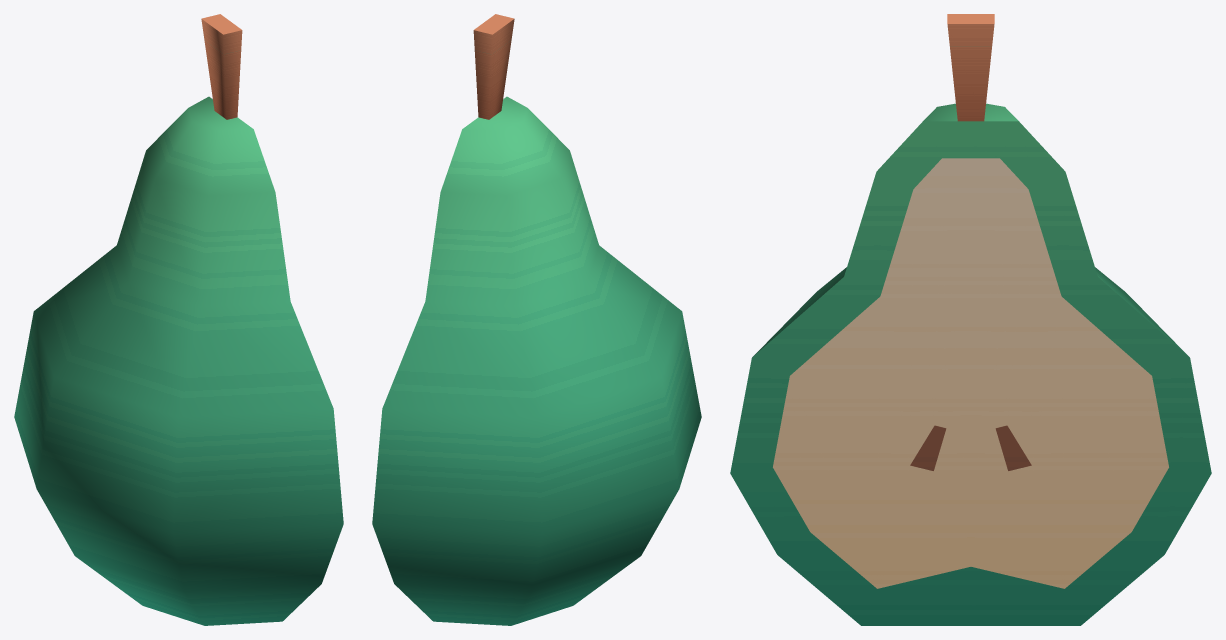
File: kf_pear-half.glb
3 renders of one model, left to right at view 1: azimuth 30°, elevation 25°; view 2: azimuth 150°, elevation 25°; view 3: azimuth 270°, elevation 25°, orthographic. The views are drawn at different scales.
Parts seen in each view (by area): view 1: pear-half; view 2: pear-half; view 3: pear-half.
Boxes of the visible parts, left/top/right/bottom form: pear-half: left=14, top=14, right=343, bottom=625; pear-half: left=372, top=14, right=701, bottom=625; pear-half: left=730, top=14, right=1211, bottom=625.
Bounding box in the file's own units: 0.0286 × 0.0789 × 0.0572.
Materials: 1 (1 with a texture image).
